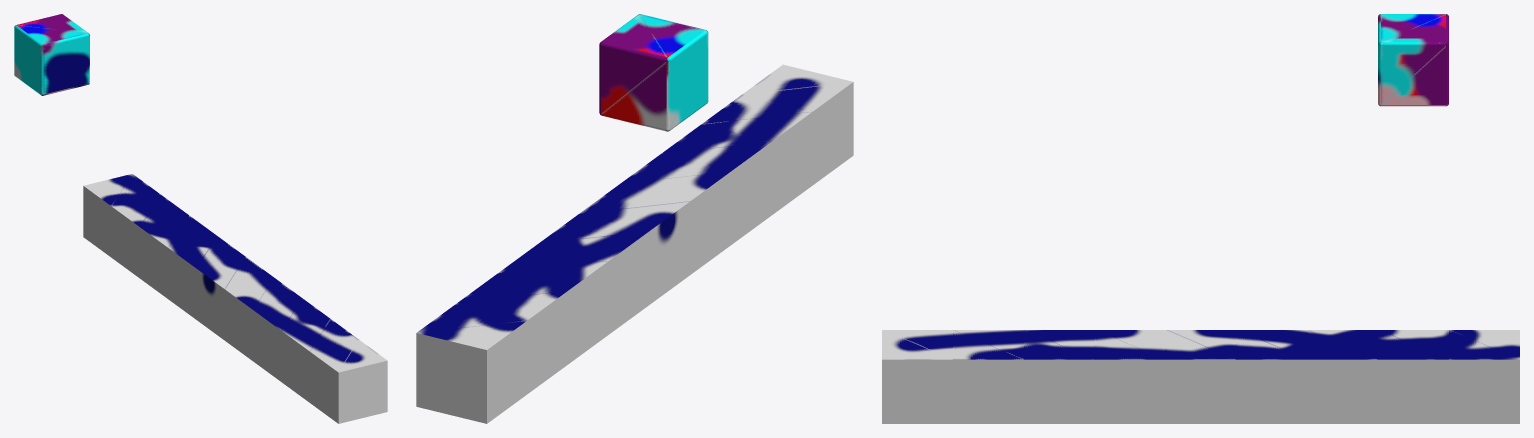
The picture shows the model from 3 angles, left to right: view 1: azimuth 30°, elevation 25°; view 2: azimuth 150°, elevation 25°; view 3: azimuth 270°, elevation 25°; orthographic projection. The views are drawn at different scales.
Parts seen in each view (by area): view 1: algeomath; view 2: algeomath; view 3: algeomath.
Boxes of the visible parts, bbox=[...] form: algeomath: bbox=[14, 14, 387, 423]; algeomath: bbox=[416, 14, 853, 423]; algeomath: bbox=[882, 14, 1519, 423].
Size of the model in its own units: 0.1 by 0.1667 by 0.3.
1 material, 1 textured.
